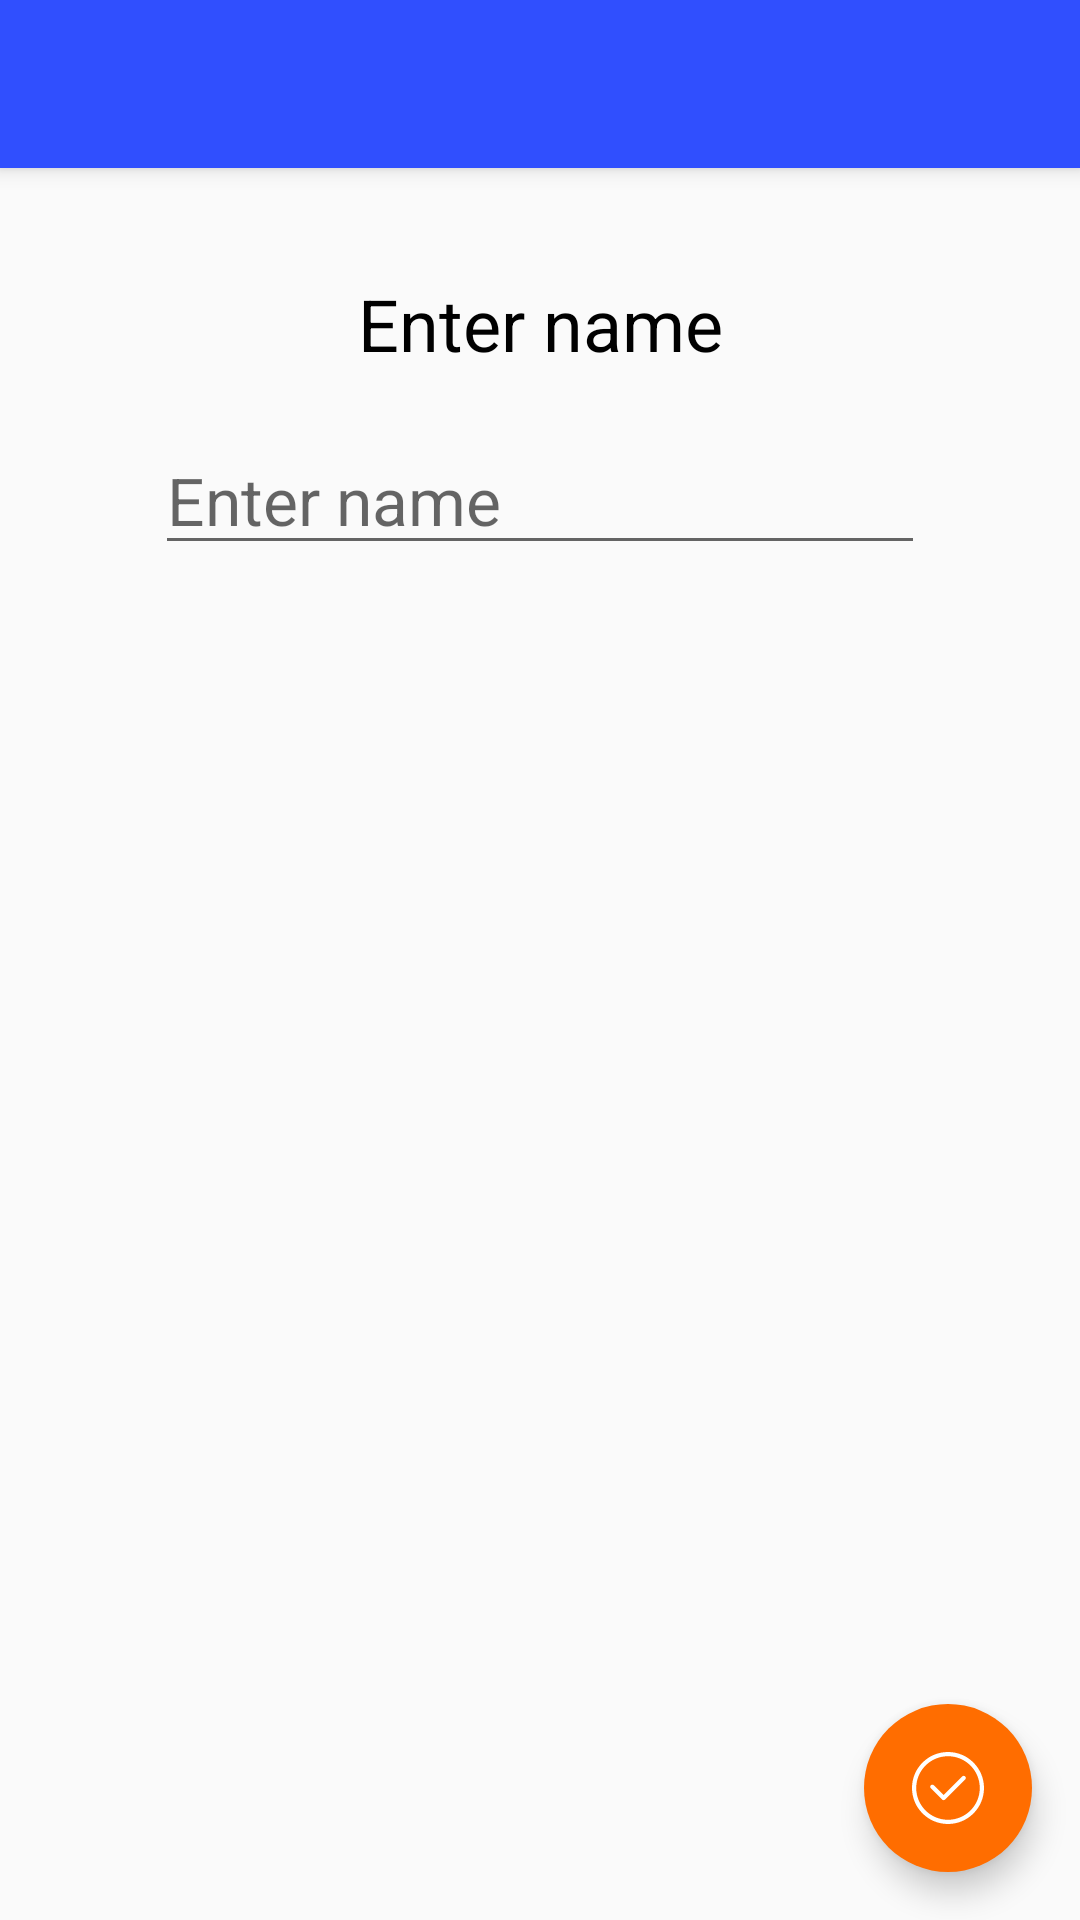

Named icons in this screenshot (1080px x 1920px) and their centers, (x,y):
verified: (948,1788)
